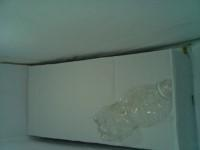bottle: (92, 79, 177, 143)
